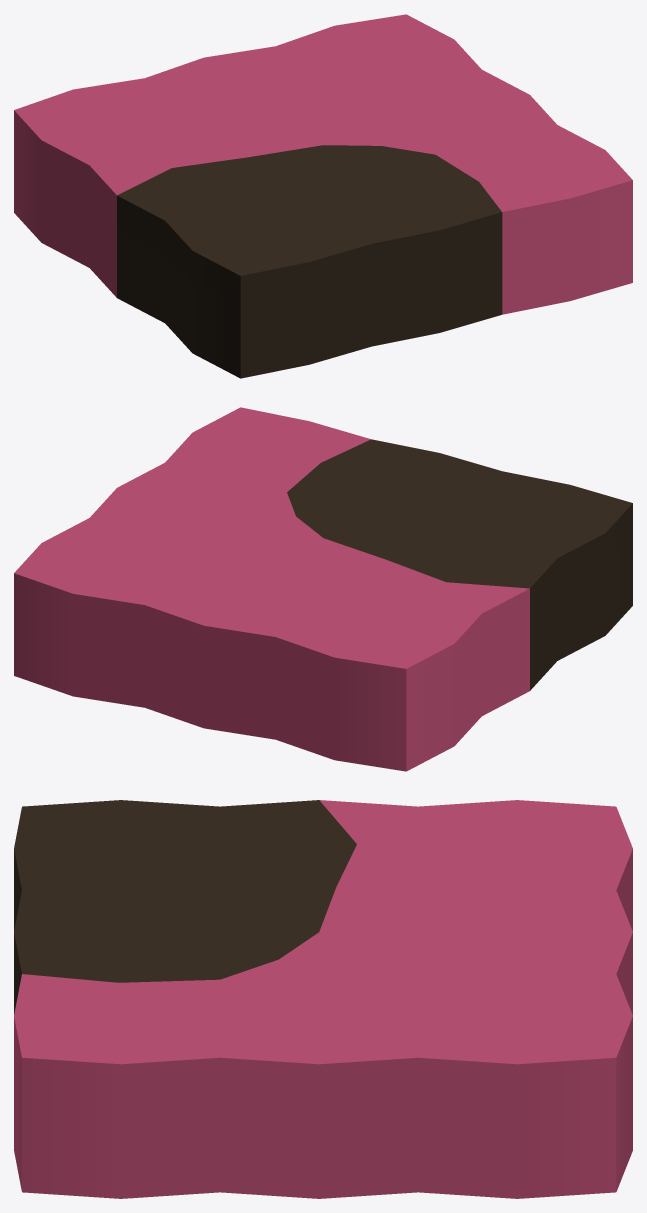
The model's file is jaggeredTile-24b_col_001.fbx.
3 renders of one model, top to bottom at view 1: azimuth 30°, elevation 25°; view 2: azimuth 150°, elevation 25°; view 3: azimuth 270°, elevation 25°, orthographic. The views are drawn at different scales.
Visible parts, largest first — view 1: jaggeredTile-24b.col.001; view 2: jaggeredTile-24b.col.001; view 3: jaggeredTile-24b.col.001.
Part boxes in pixels (x1,y1,x2,y2): jaggeredTile-24b.col.001: [14, 14, 632, 378]; jaggeredTile-24b.col.001: [14, 407, 632, 771]; jaggeredTile-24b.col.001: [14, 800, 632, 1198].
Size of the model in its own units: 2.1 by 0.5 by 2.08.
Materials: 1 (1 with a texture image).
